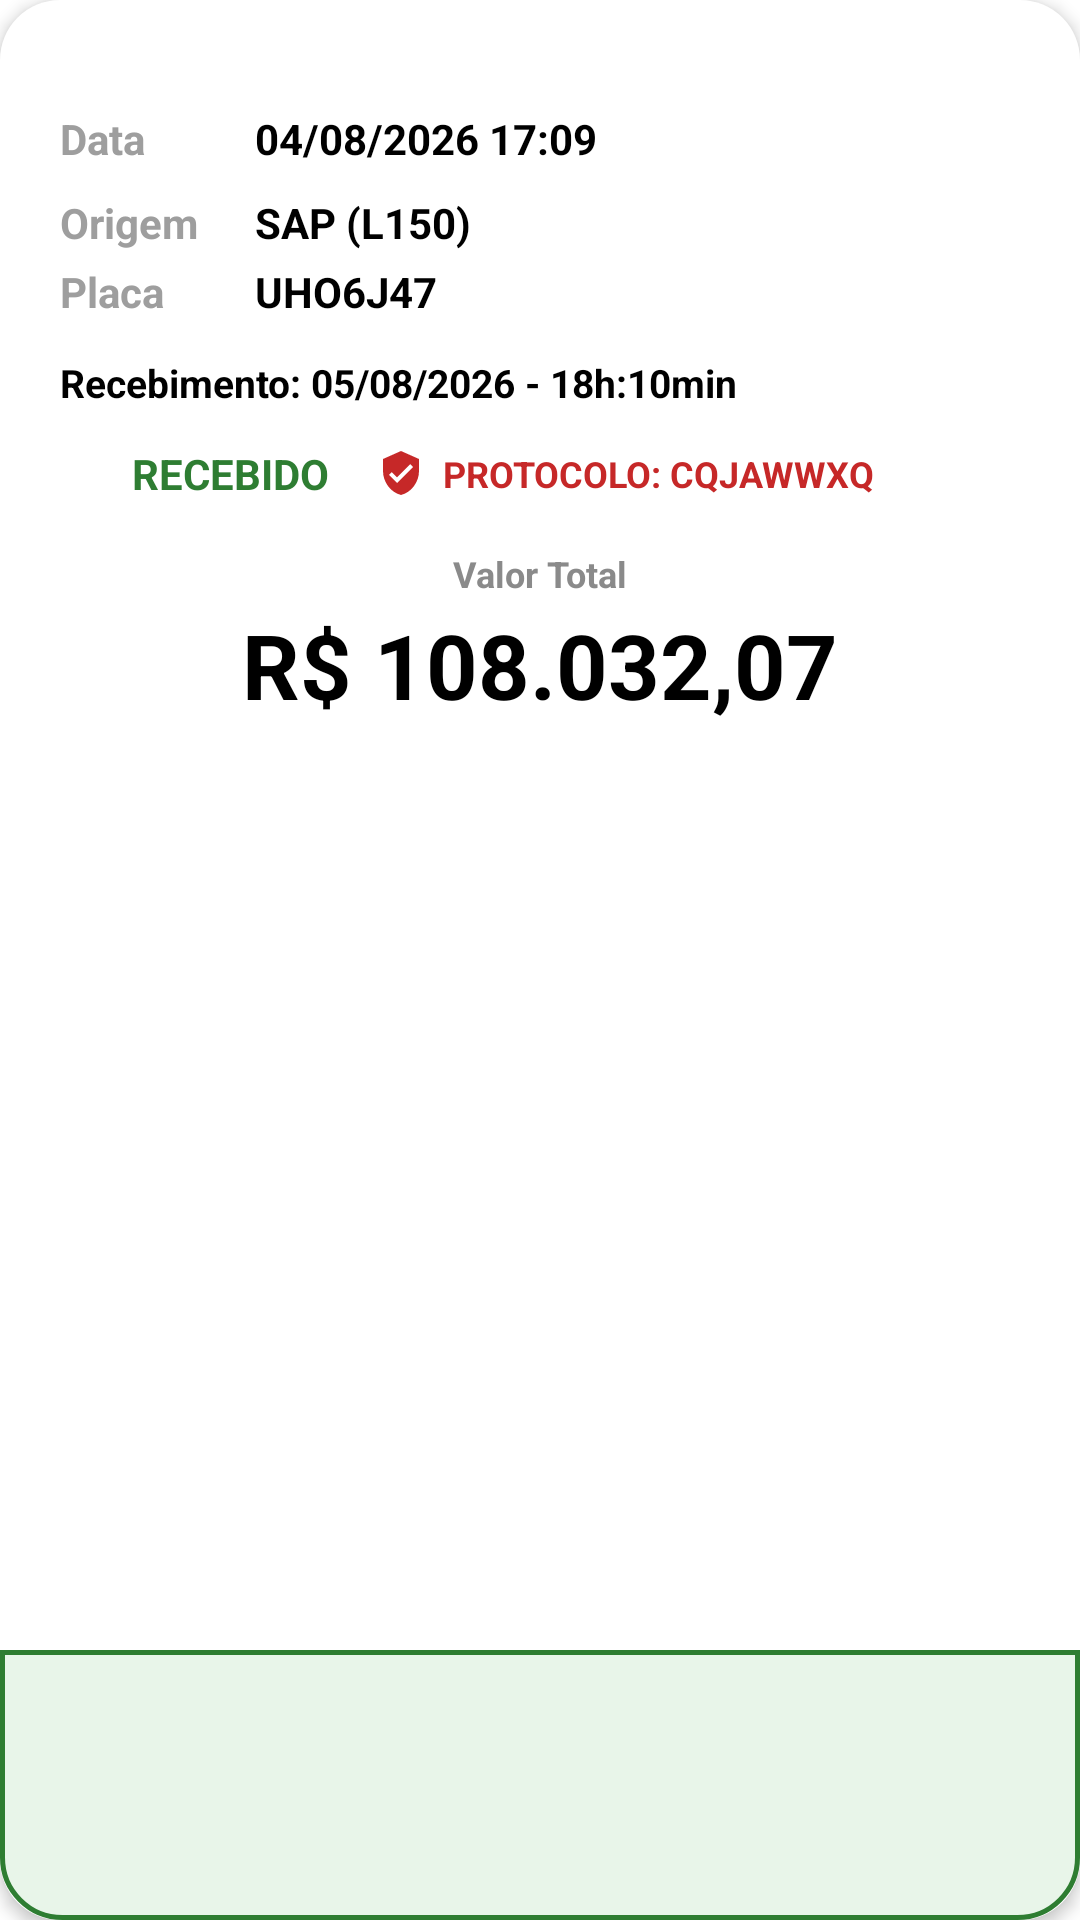

Named icons in this screenshot (1080w x 1920h) and their centers, (x=x, y=y):
verified user: (x=401, y=473)
